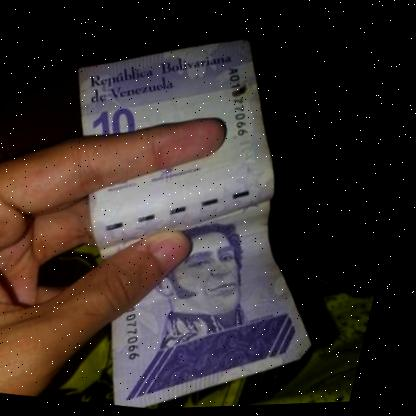ten-front-vef: (3, 14, 414, 415)
